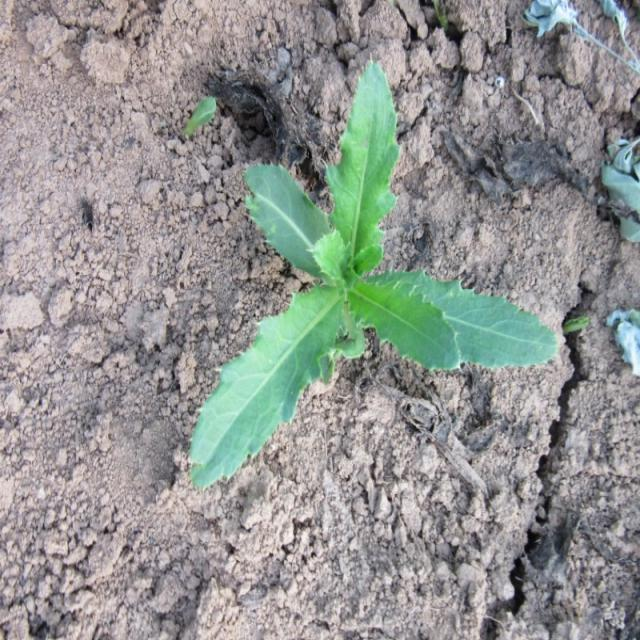cs: (186, 58, 561, 490)
